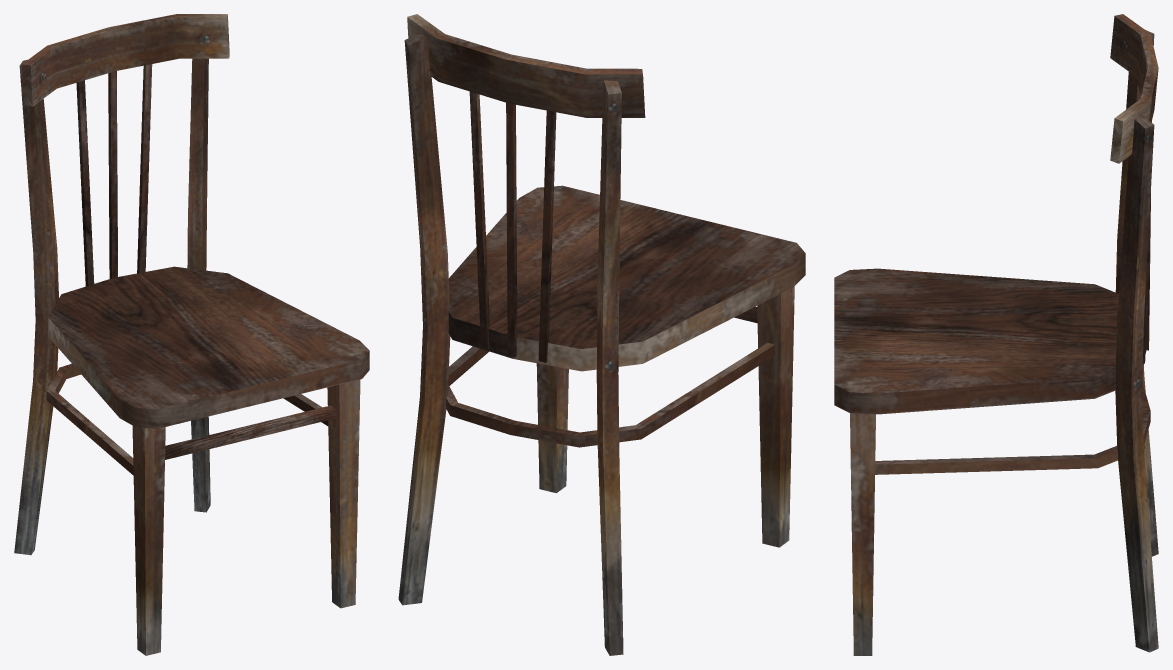
Rendered from chair_03.FBX.
3 views of the same model, side by side, from view 1: azimuth 30°, elevation 25°; view 2: azimuth 150°, elevation 25°; view 3: azimuth 270°, elevation 25° (orthographic). The views are drawn at different scales.
Visible parts, largest first — view 1: chair.1; view 2: chair.1; view 3: chair.1.
Boxes of the visible parts, left/top/right/bottom form: chair.1: left=14, top=14, right=369, bottom=655; chair.1: left=398, top=14, right=805, bottom=655; chair.1: left=834, top=14, right=1158, bottom=655.
Size of the model in its own units: 0.4945 by 0.9858 by 0.5424.
1 material, 1 textured.
